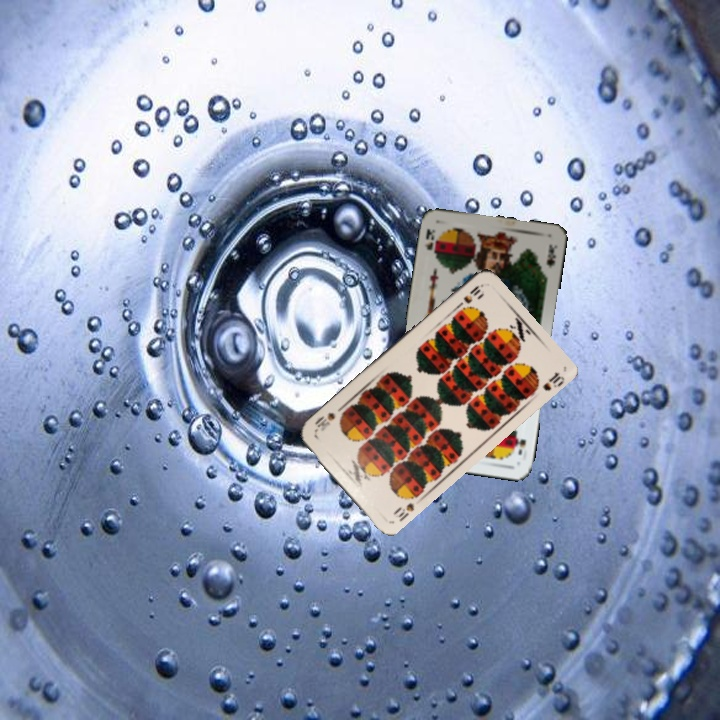S10: (452, 280, 486, 311), (389, 498, 417, 524)
SK: (420, 225, 440, 262), (512, 434, 529, 457)
